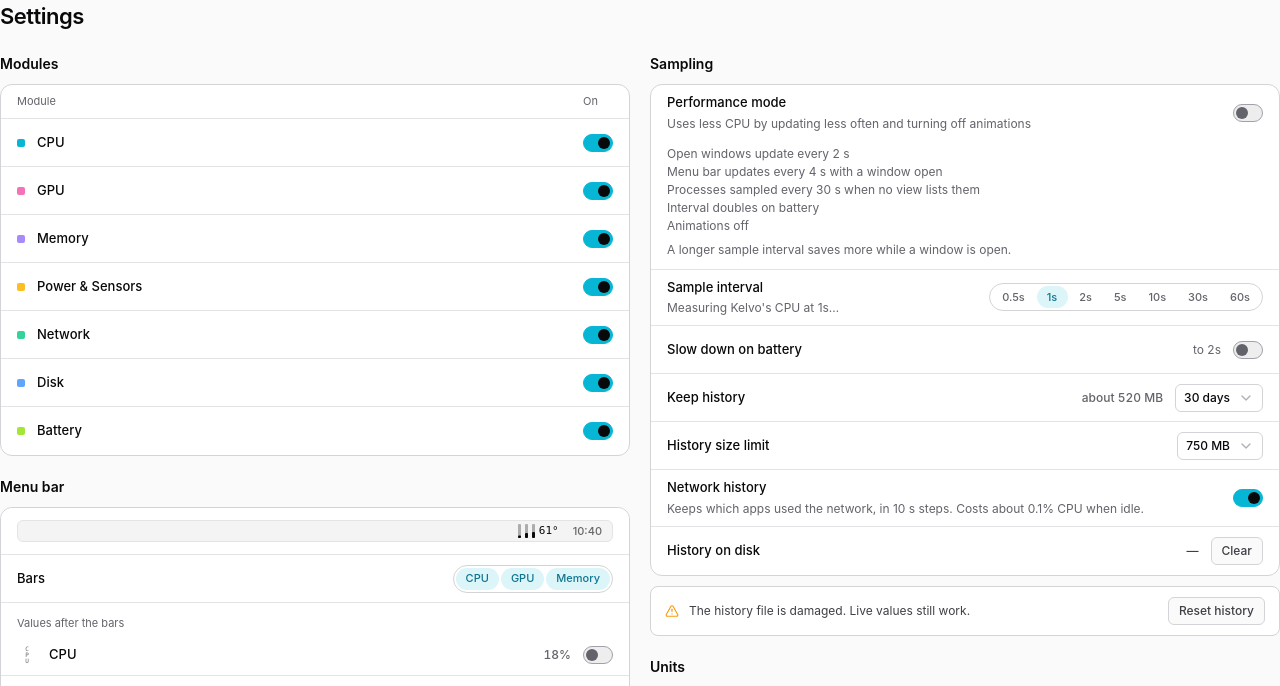
Test: Settings: history unavailable and Reset history (D-064) › cancelling the confirm resets nothing
Click the button "Reset history" at (1216, 610), box top-left (1168, 596), bottom-right (1265, 624)
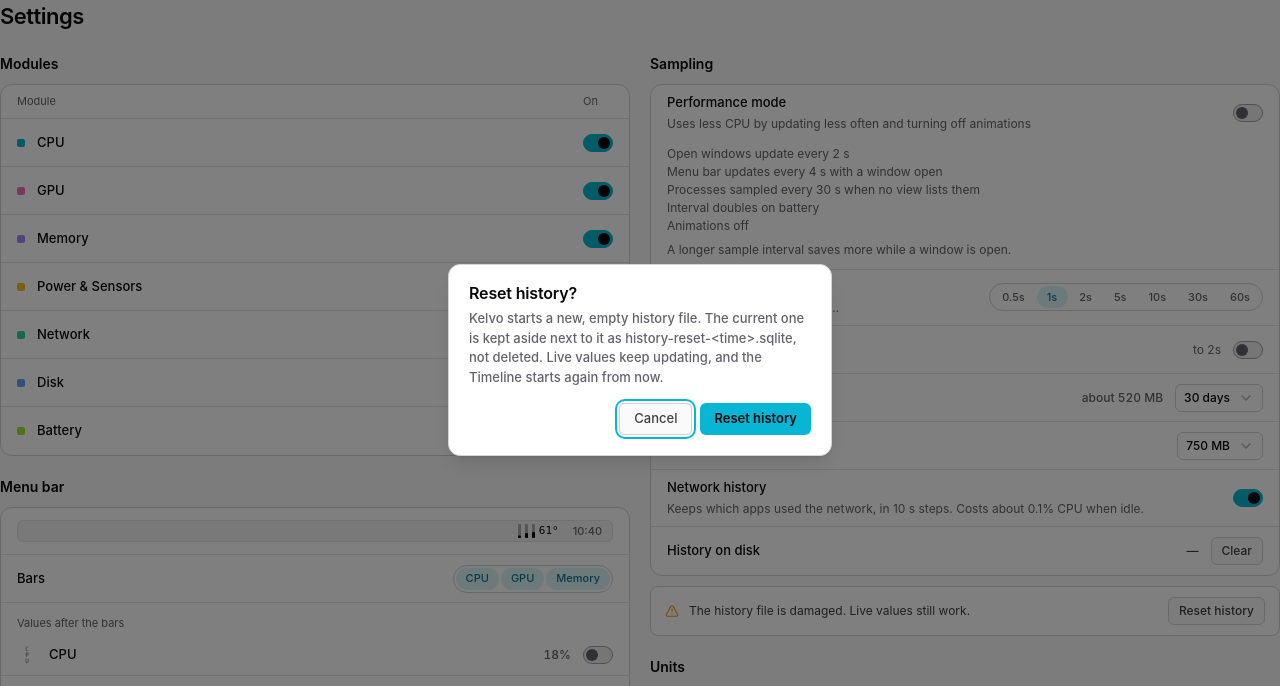
Click the button "Cancel" at (656, 419), box top-left (619, 403), bottom-right (692, 435)
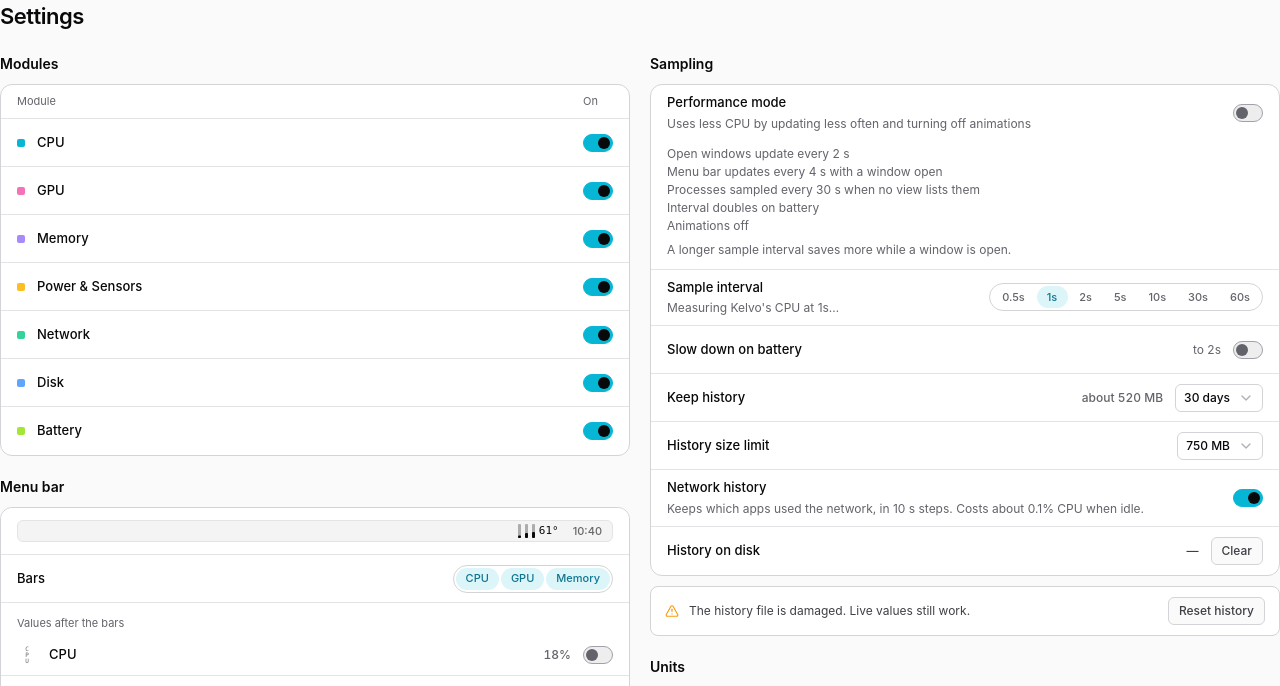
Expected: the text "The history file is damaged. Live values still work." is shown, top-left (689, 602), bottom-right (970, 618)
Expected: the dialog is gone
